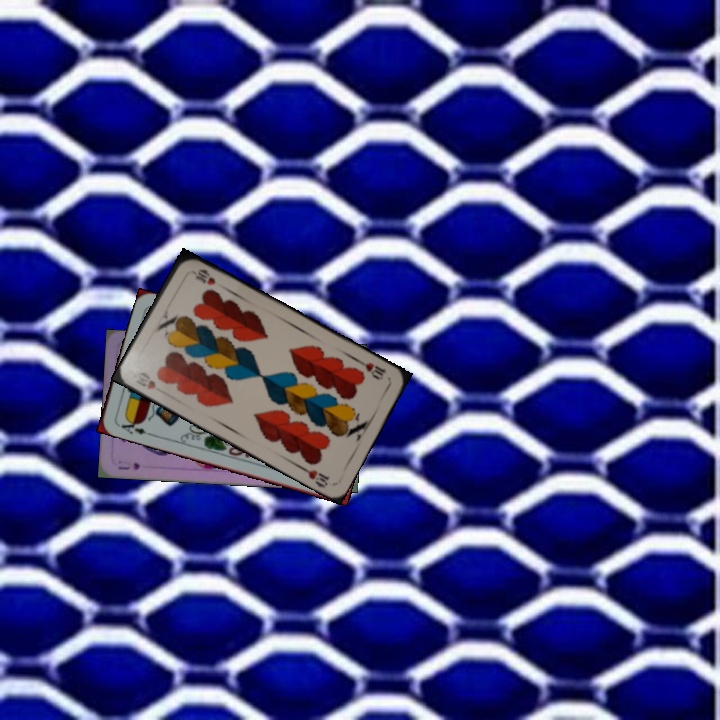EA: (114, 414, 148, 437)
H10: (354, 356, 388, 383), (132, 368, 159, 392)
SU: (114, 458, 143, 472)
